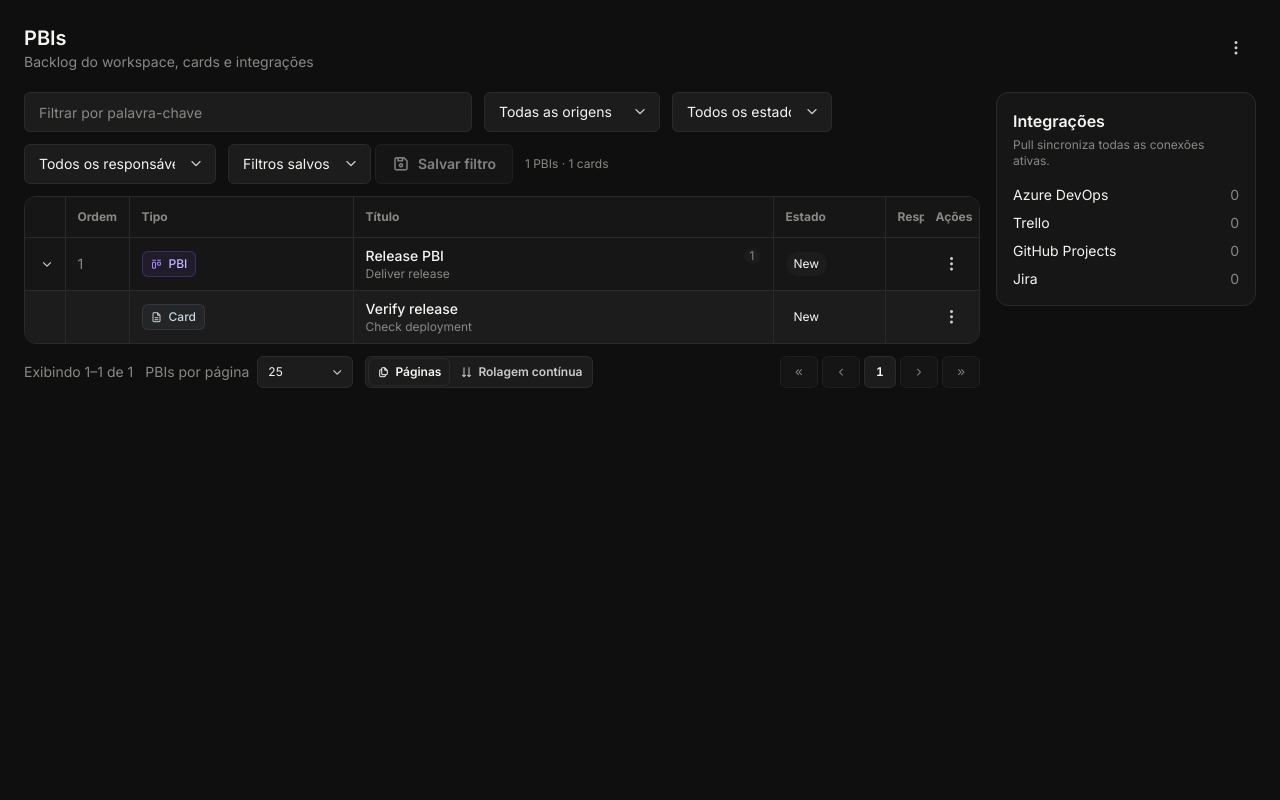
Scenario: PbiView coverage gaps: rows and search › closes the filter name dialog with Escape
This screenshot has width=1280, height=800.
Expected: the button "Release PBI" is shown, [366,246,736,266]
In the field named "Filtrar PBIs": (248, 112) [24,92,472,132], type "release"
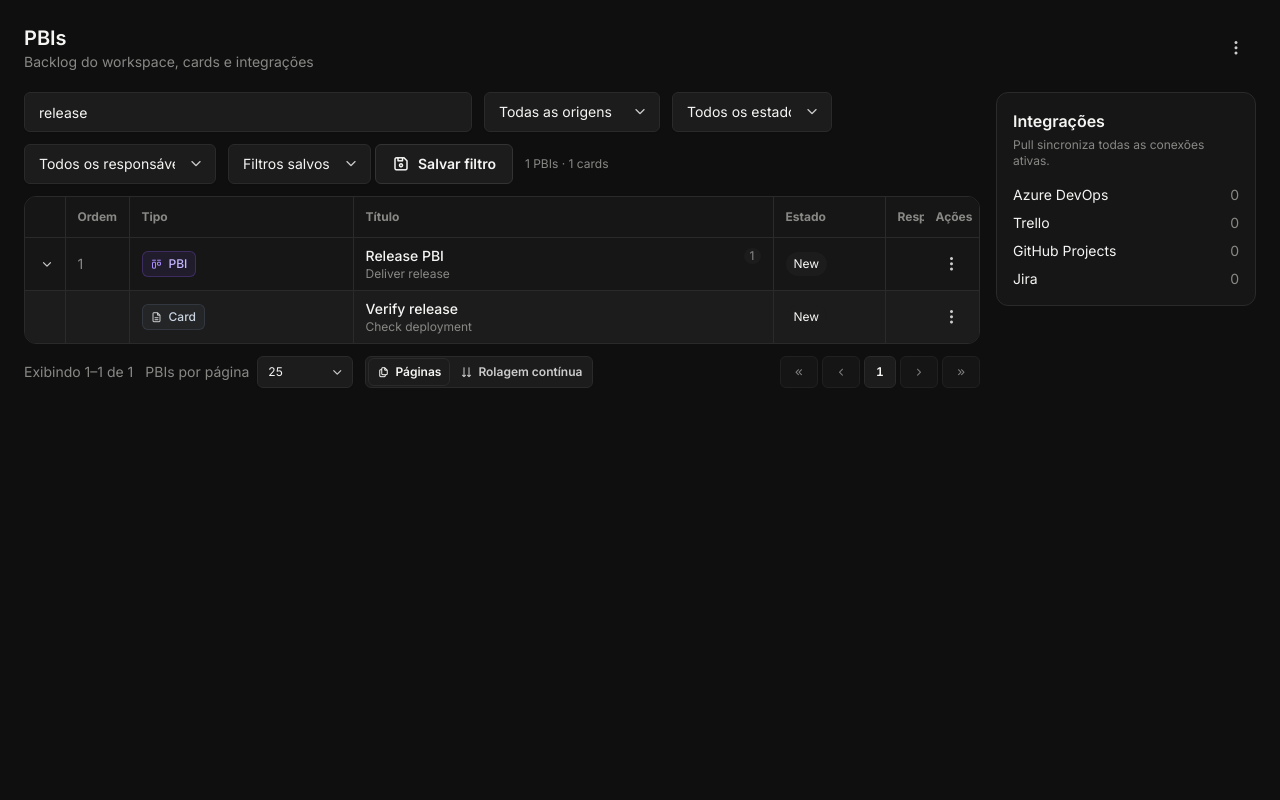
Click the button "Salvar filtro": (444, 164) [375,144,513,184]
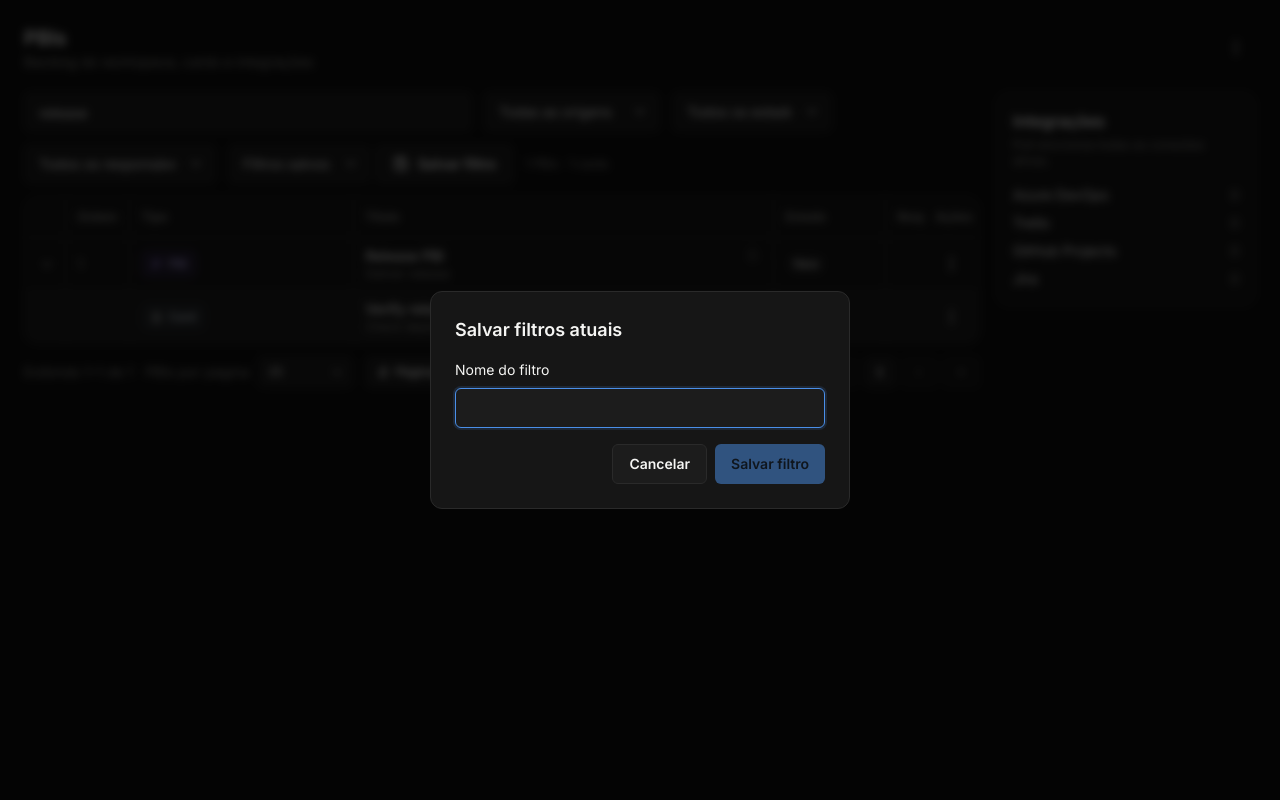
Press Escape in the field labelled "Nome do filtro", box [455,388,825,428]
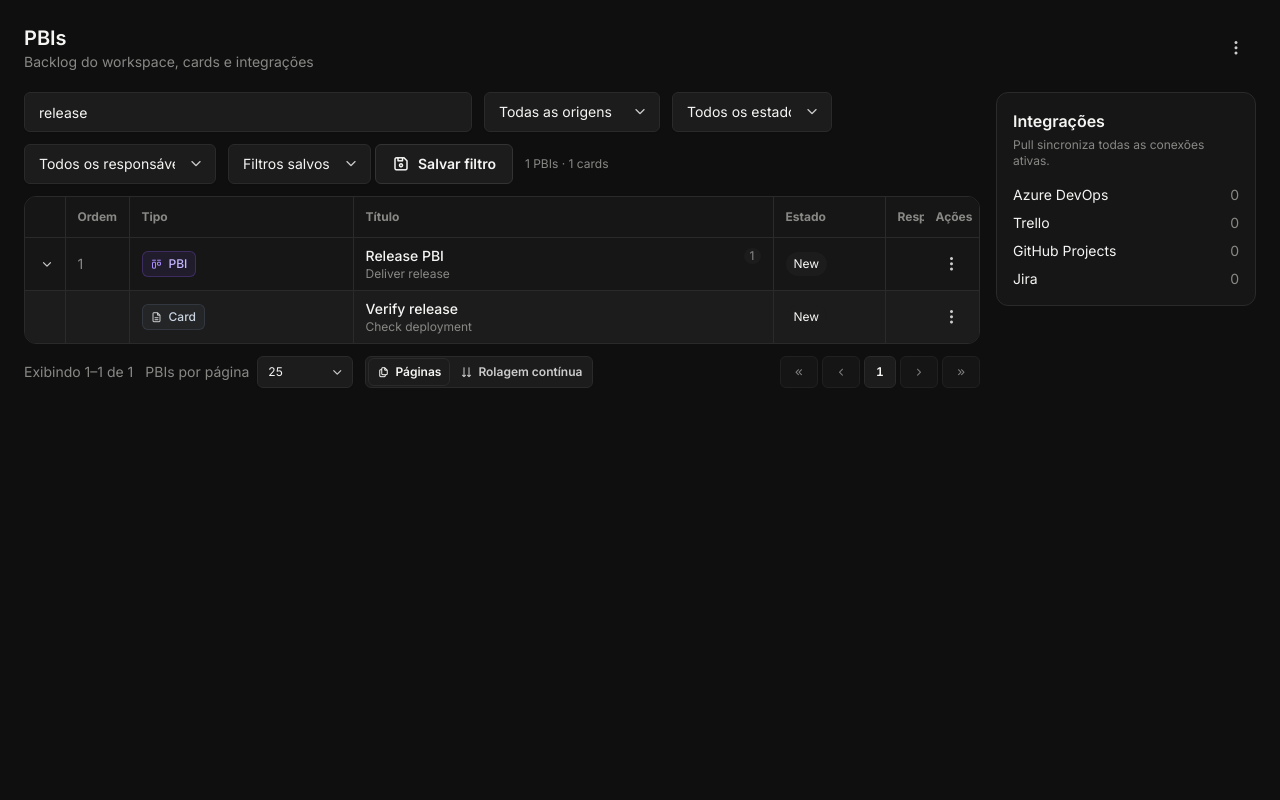
Result: the label "Nome do filtro" is gone
